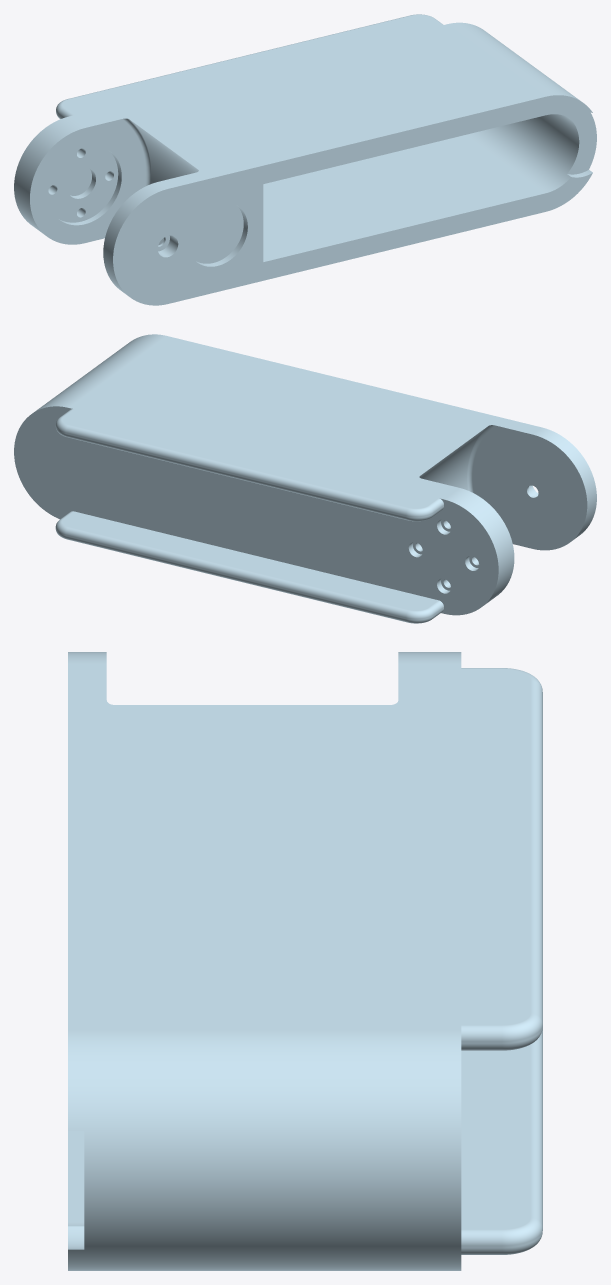
3 renders of one model, top to bottom at view 1: azimuth 30°, elevation 25°; view 2: azimuth 150°, elevation 25°; view 3: azimuth 270°, elevation 25°, orthographic. The views are drawn at different scales.
Visible parts, largest first — view 1: SnakeFront; view 2: SnakeFront; view 3: SnakeFront.
Part boxes in pixels (left/top/right/bottom): SnakeFront: left=14, top=14, right=596, bottom=305; SnakeFront: left=14, top=334, right=596, bottom=623; SnakeFront: left=68, top=652, right=542, bottom=1270.
Bounding box in the file's own units: 0.1375 × 0.031 × 0.0583.
